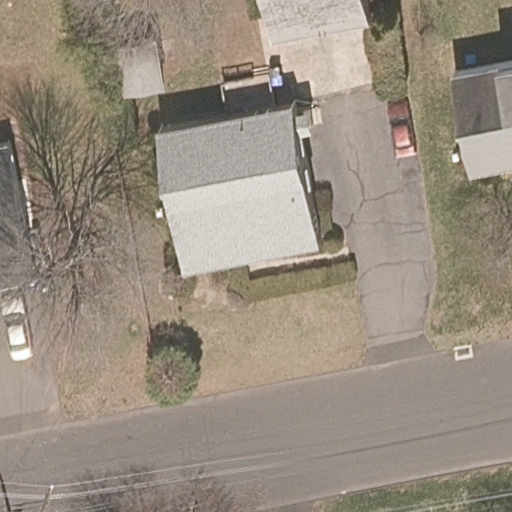DT: (35, 484, 61, 512)
